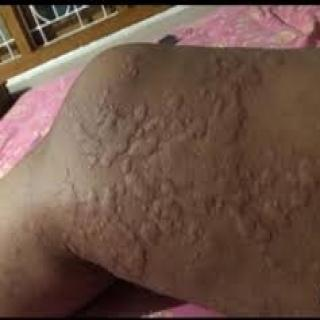urticaria: (111, 93, 294, 256)
